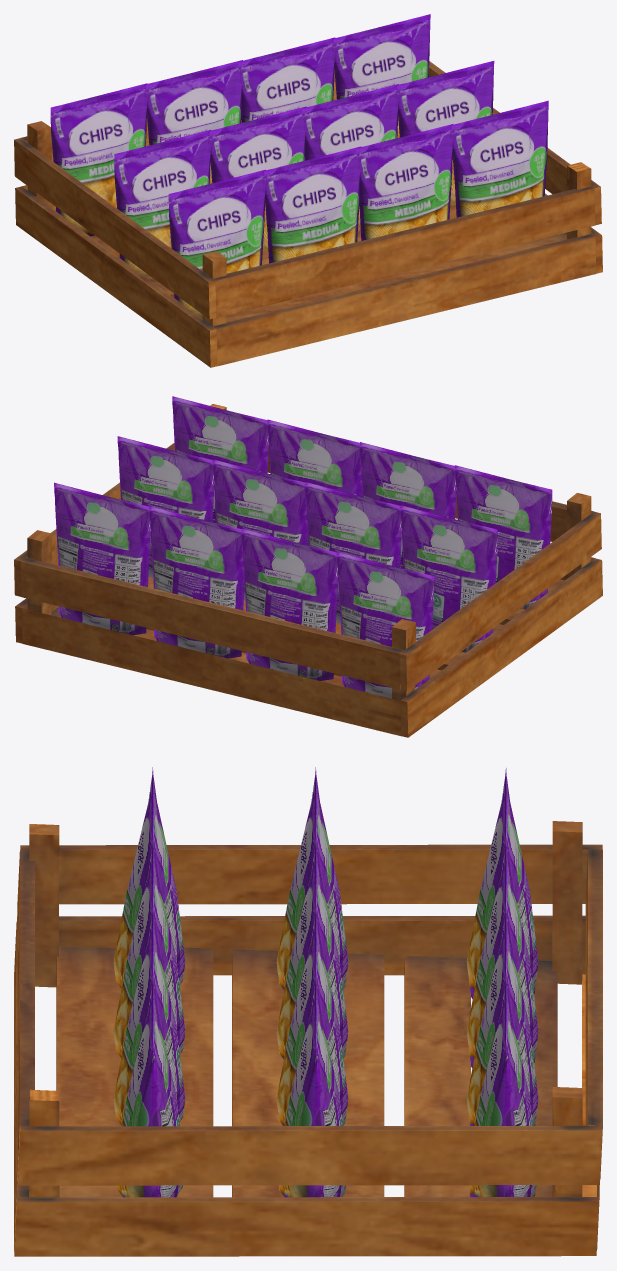
The model's file is Chips.fbx.
3 renders of one model, top to bottom at view 1: azimuth 30°, elevation 25°; view 2: azimuth 150°, elevation 25°; view 3: azimuth 270°, elevation 25°, orthographic. The views are drawn at different scales.
Visible parts, largest first — view 1: Rack.001, Black Pepper.012, Black Pepper.014, Black Pepper.013, Black Pepper.015, Black Pepper.007, Black Pepper.011, Black Pepper.004, Black Pepper.006, Black Pepper.005, Black Pepper.008, Black Pepper.010 (+1 smaller); view 2: Rack.001, Black Pepper.004, Black Pepper.006, Black Pepper.005, Black Pepper.011, Black Pepper.007, Black Pepper.015, Black Pepper.008, Black Pepper.010, Black Pepper.009, Black Pepper.012, Black Pepper.014 (+1 smaller); view 3: Rack.001, Black Pepper.012, Black Pepper.008, Black Pepper.004, Black Pepper.007, Black Pepper.005, Black Pepper.011, Black Pepper.009, Black Pepper.015, Black Pepper.013, Black Pepper.006, Black Pepper.010 (+1 smaller).
Part boxes in pixels (x1,y1,x2,y2): Rack.001: [14, 61, 602, 367]; Black Pepper.012: [451, 100, 548, 217]; Black Pepper.014: [264, 146, 361, 263]; Black Pepper.013: [356, 124, 453, 240]; Black Pepper.015: [168, 169, 265, 316]; Black Pepper.007: [50, 83, 147, 236]; Black Pepper.011: [114, 130, 211, 276]; Black Pepper.004: [333, 14, 430, 137]; Black Pepper.006: [146, 60, 242, 183]; Black Pepper.005: [238, 37, 335, 122]; Black Pepper.008: [397, 61, 494, 205]; Black Pepper.010: [209, 106, 306, 251]; Rack.001: [14, 404, 602, 737]; Black Pepper.004: [54, 482, 150, 635]; Black Pepper.006: [241, 528, 338, 680]; Black Pepper.005: [149, 506, 244, 658]; Black Pepper.011: [400, 505, 497, 652]; Black Pepper.007: [337, 551, 434, 698]; Black Pepper.015: [455, 465, 552, 609]; Black Pepper.008: [117, 436, 214, 577]; Black Pepper.010: [305, 482, 401, 623]; Black Pepper.009: [213, 459, 308, 599]; Black Pepper.012: [172, 396, 268, 522]; Black Pepper.014: [360, 442, 456, 568]; Rack.001: [14, 821, 602, 1256]; Black Pepper.012: [115, 975, 182, 1197]; Black Pepper.008: [278, 975, 345, 1197]; Black Pepper.004: [469, 974, 536, 1196]; Black Pepper.007: [466, 768, 538, 998]; Black Pepper.005: [466, 906, 538, 1125]; Black Pepper.011: [276, 767, 348, 990]; Black Pepper.009: [276, 907, 348, 1125]; Black Pepper.015: [113, 767, 185, 988]; Black Pepper.013: [113, 907, 185, 1125]; Black Pepper.006: [466, 837, 538, 1067]; Black Pepper.010: [276, 838, 348, 1059].
Size of the model in its own units: 0.6471 by 0.2219 by 0.563.
